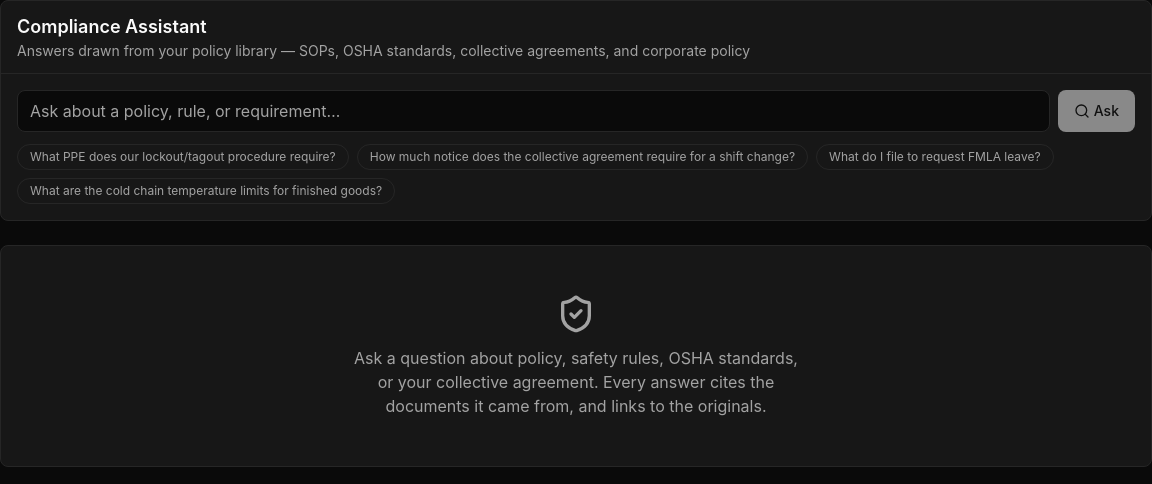
Test: Compliance Assistant › failure is not emptiness › names a service outage as an outage
Type "lockout procedure" into the field named "Compliance question".
click(533, 111); type("lockout procedure")  # box [17, 90, 1050, 132]
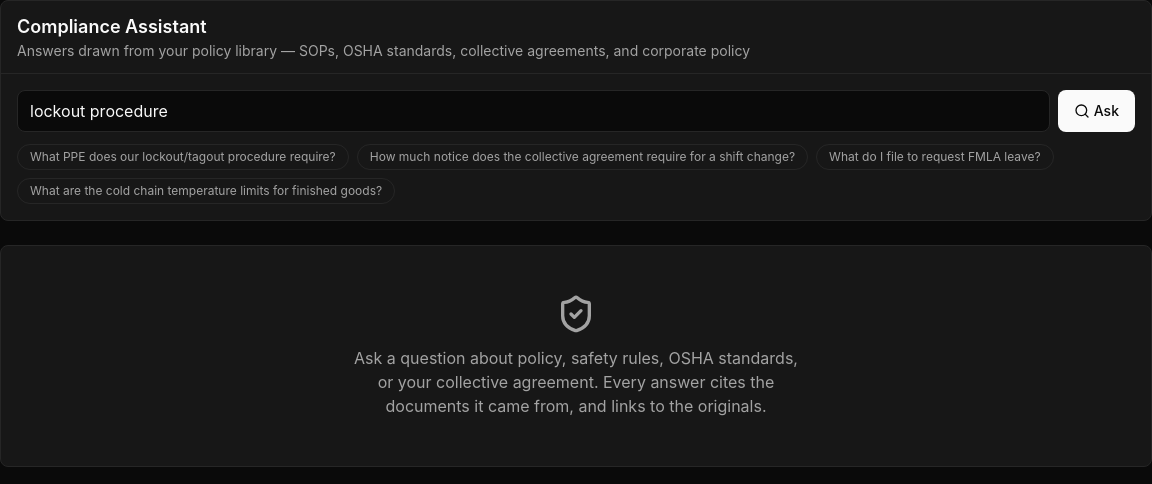
Click the button "Ask".
click(1096, 111)  # box [1058, 90, 1135, 132]
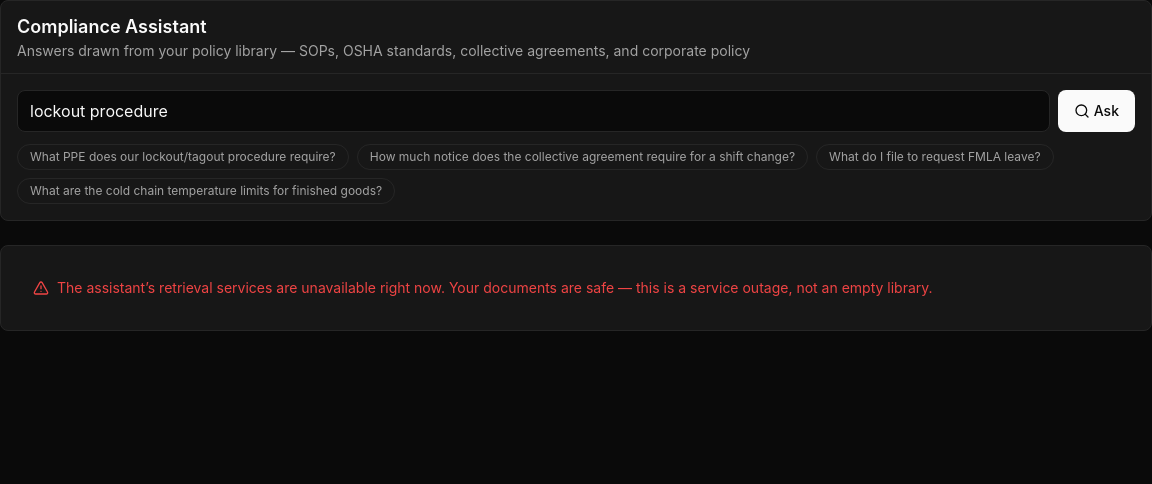
Now the text "not an empty library" is shown, box [57, 279, 932, 296]
